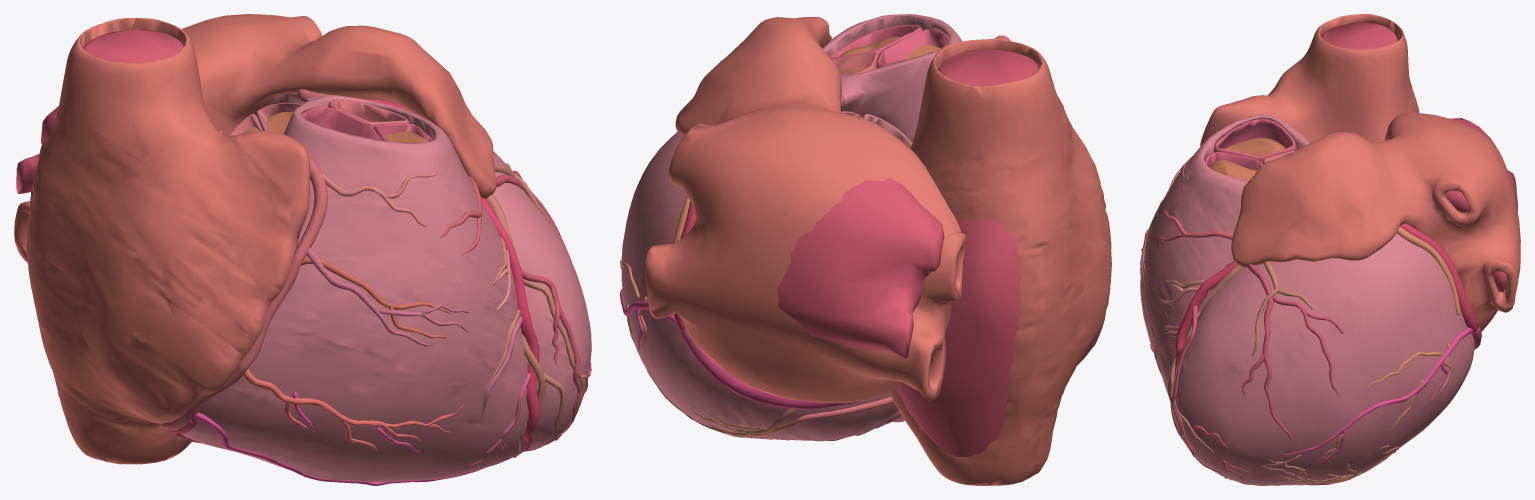
Rendered from body-heart.lod0.glb.
The picture shows the model from 3 angles, left to right: view 1: azimuth 30°, elevation 25°; view 2: azimuth 150°, elevation 25°; view 3: azimuth 270°, elevation 25°; orthographic projection. The views are drawn at different scales.
Parts seen in each view (by area): view 1: wall-of-ventricle, wall-of-atrium-r, wall-of-atrium-l, anterior-interventricular-vein, trunk-of-coronary-artery-r, cavity-of-atrium-r, trunk-of-anterior-interventricular-branch-of-coronary-artery, marginal-branch-of-coronary-artery-r, diagonal-branch-of-anterior-descending-branch-of-coronary-ar, first-anterior-ventricular-branch-of-coronary-artery-r, marginal-vein-r, anterior-cusp-of-pulmonary-valve-r (+5 smaller); view 2: wall-of-atrium-l, wall-of-atrium-r, wall-of-ventricle, cavity-of-atrium-l, cavity-of-atrium-r, coronary-sinus, anterior-cusp-of-pulmonary-valve-r, anterior-cusp-of-pulmonary-valve-l, circumflex-branch-of-coronary-artery-l, posterior-vein-of-ventricle-l, cavity-of-ventricle-r, posterior-cusp-of-pulmonary-valve (+1 smaller); view 3: wall-of-ventricle, wall-of-atrium-l, wall-of-atrium-r, diagonal-branch-of-anterior-descending-branch-of-coronary-ar, anterior-interventricular-vein, anterior-cusp-of-pulmonary-valve-r, cavity-of-atrium-r, circumflex-branch-of-coronary-artery-l, marginal-vein-l, cavity-of-ventricle-r, great-cardiac-vein, cavity-of-atrium-l (+4 smaller).
Part boxes in pixels (x1,y1,x2,y2): wall-of-ventricle: [170, 93, 591, 482]; wall-of-atrium-r: [26, 17, 310, 464]; wall-of-atrium-l: [14, 14, 496, 261]; anterior-interventricular-vein: [483, 163, 587, 452]; trunk-of-coronary-artery-r: [160, 156, 327, 430]; cavity-of-atrium-r: [83, 29, 183, 62]; trunk-of-anterior-interventricular-branch-of-coronary-artery: [366, 99, 539, 451]; marginal-branch-of-coronary-artery-r: [243, 368, 467, 450]; diagonal-branch-of-anterior-descending-branch-of-coronary-ar: [496, 170, 591, 445]; first-anterior-ventricular-branch-of-coronary-artery-r: [306, 248, 469, 346]; marginal-vein-r: [192, 392, 483, 485]; anterior-cusp-of-pulmonary-valve-r: [301, 106, 380, 139]; wall-of-atrium-l: [644, 17, 966, 403]; wall-of-atrium-r: [889, 35, 1111, 485]; wall-of-ventricle: [621, 14, 962, 441]; cavity-of-atrium-l: [777, 178, 944, 358]; cavity-of-atrium-r: [897, 49, 1038, 456]; coronary-sinus: [681, 329, 862, 409]; anterior-cusp-of-pulmonary-valve-r: [876, 28, 948, 68]; anterior-cusp-of-pulmonary-valve-l: [829, 24, 922, 58]; circumflex-branch-of-coronary-artery-l: [620, 195, 690, 349]; posterior-vein-of-ventricle-l: [647, 370, 798, 437]; cavity-of-ventricle-r: [838, 36, 940, 74]; posterior-cusp-of-pulmonary-valve: [831, 52, 878, 75]; wall-of-ventricle: [1140, 114, 1474, 485]; wall-of-atrium-l: [1231, 112, 1520, 331]; wall-of-atrium-r: [1200, 14, 1419, 145]; diagonal-branch-of-anterior-descending-branch-of-coronary-ar: [1170, 264, 1343, 481]; anterior-interventricular-vein: [1153, 261, 1312, 456]; anterior-cusp-of-pulmonary-valve-r: [1214, 119, 1296, 163]; cavity-of-atrium-r: [1321, 22, 1397, 49]; circumflex-branch-of-coronary-artery-l: [1264, 226, 1460, 465]; marginal-vein-l: [1281, 327, 1473, 464]; cavity-of-ventricle-r: [1210, 137, 1285, 181]; great-cardiac-vein: [1400, 223, 1478, 333]; cavity-of-atrium-l: [1445, 118, 1517, 291].
Size of the model in its own units: 0.1157 by 0.1053 by 0.1064.
